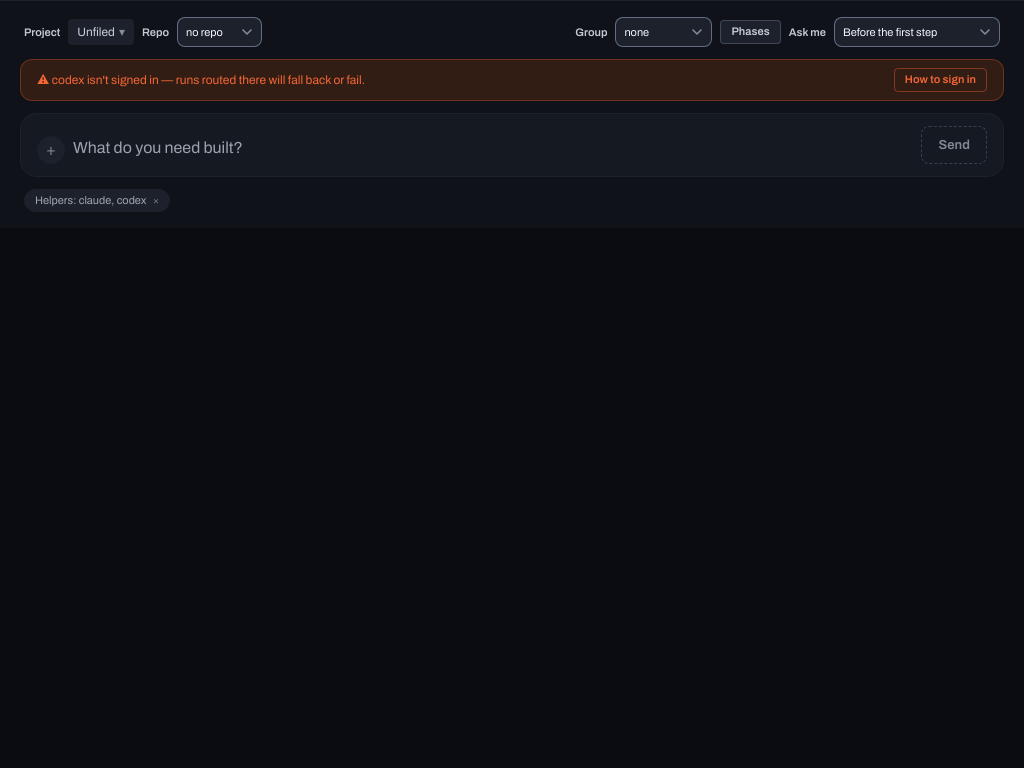
Test case: D2 — the repo picker beside Project, and the no-PR notice only when it applies › the composer row carries a repo picker; picking a repo attaches it and names the PR target
Expected: the dropdown with test id "launch-repo-picker" shows "no repo", [177,17,262,47]
Type "/" into the text box with test id "launch-problem" at point(493, 150), box [73,136,914,164]
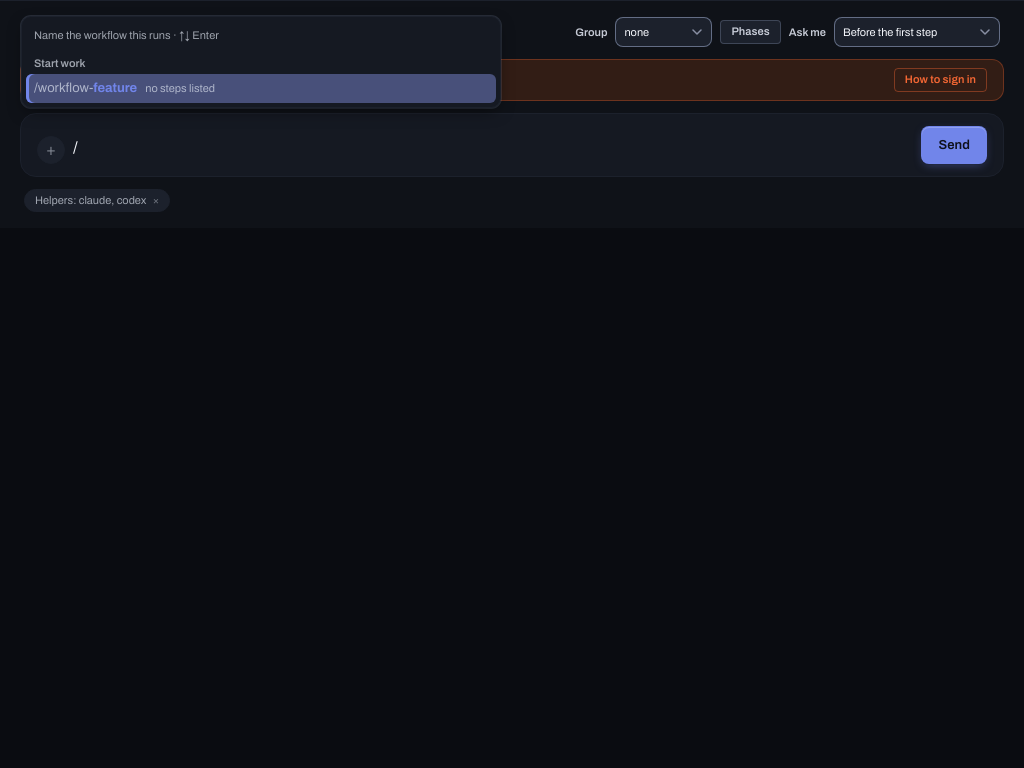
Click the option "/workflow- feature no steps listed" at point(66, 88), box [26,74,496,103]
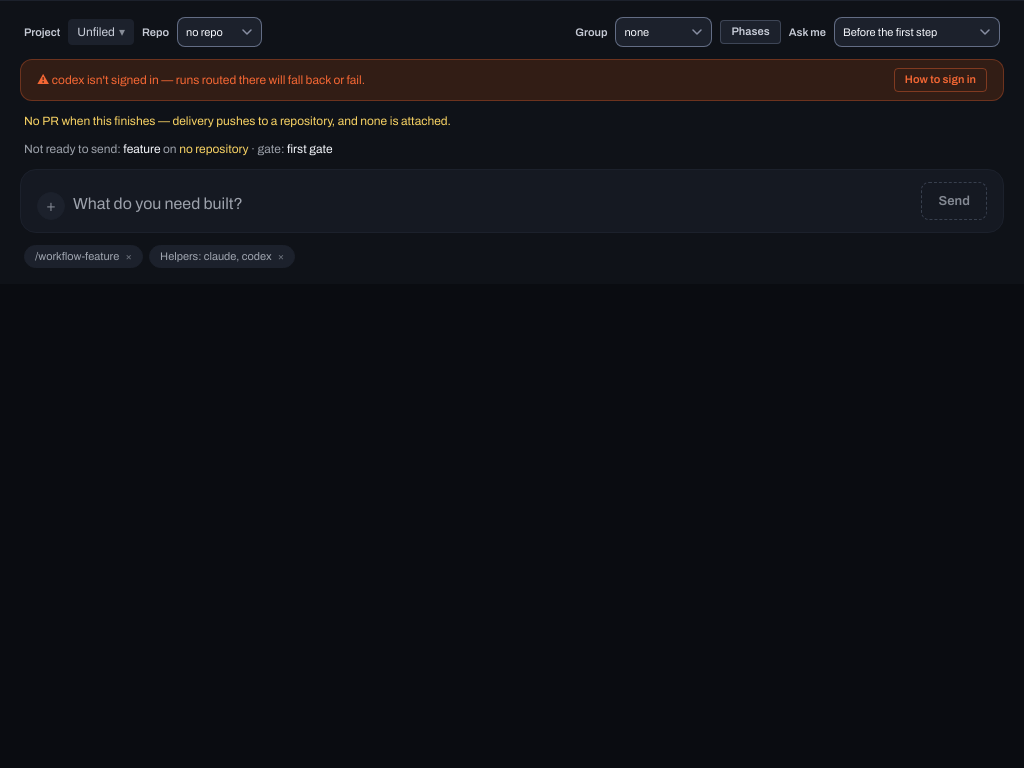
Result: the element with test id "launch-workflow-pill" has attribute data-workflow="feature" at [24,245,143,268]
Select "studio-api" in the dropdown with test id "launch-repo-picker" at point(220, 32), box [177,17,262,47]
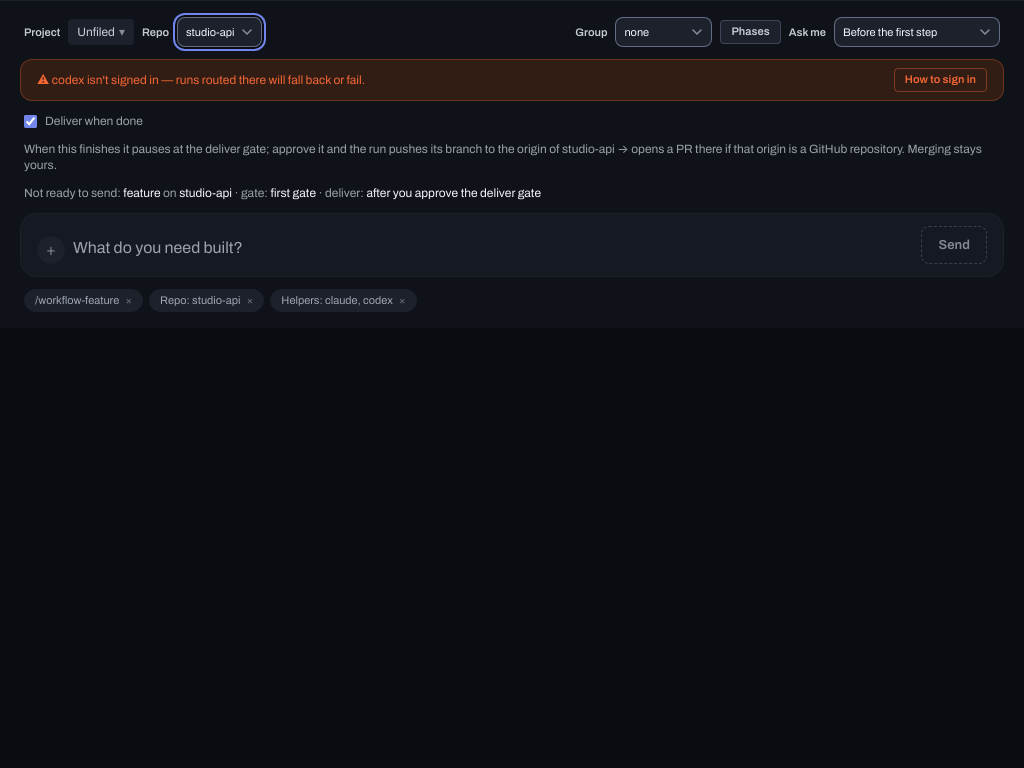
Result: the text with test id "deliver-notice" shows "the origin of studio-api → opens a PR there" at [24,142,982,172]
Click the button named "open launch options" at point(51, 250), box [37,236,65,264]
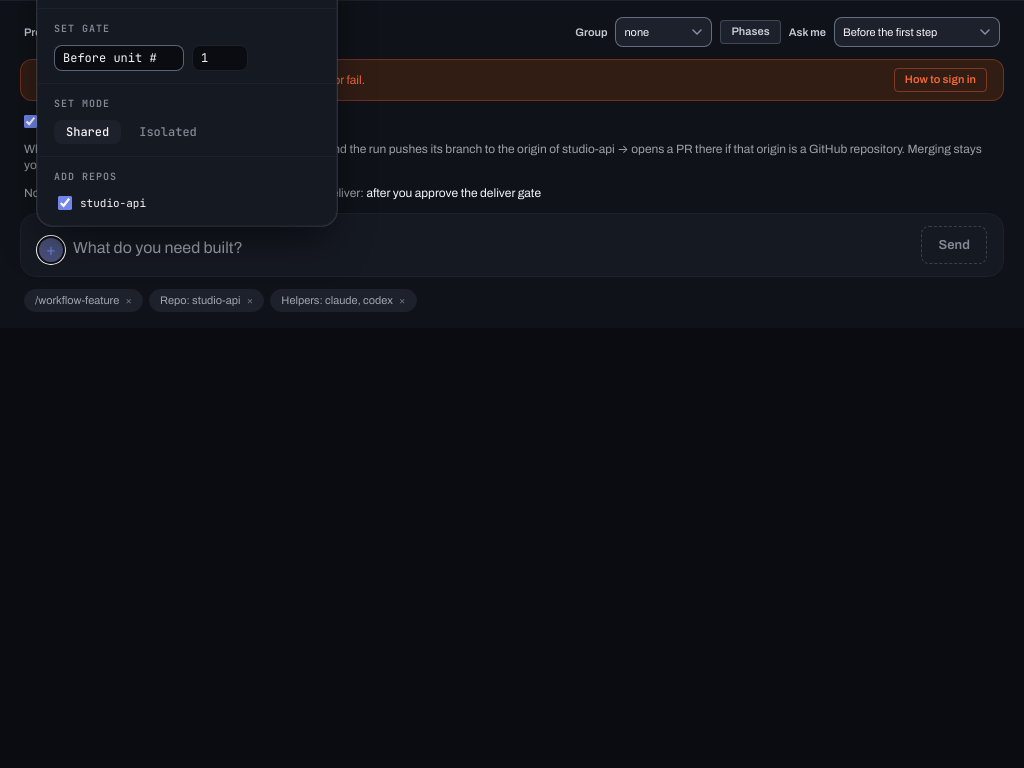
Result: the checkbox with test id "launch-repo-studio-api" is checked at [58,196,72,210]
